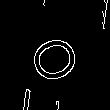O_NE: (23, 25, 87, 85)
